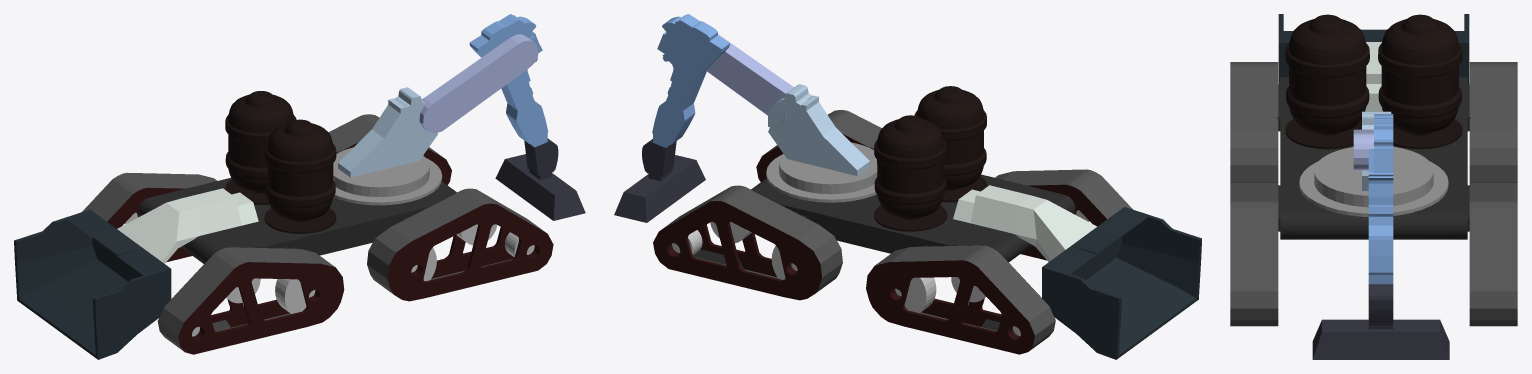
Rendered from Lunar3DPrinterRobot_Oct_02_2019.fbx.
The picture shows the model from 3 angles, left to right: view 1: azimuth 30°, elevation 25°; view 2: azimuth 150°, elevation 25°; view 3: azimuth 270°, elevation 25°; orthographic projection. The views are drawn at different scales.
Parts seen in each view (by area): view 1: Bucket, Tread_04, Tread_02, Body, Bucket_Arm, Tank_02, VacuumArmMid, VacuumArmStart, VacuumArmEnd, VacuumArmRotation, VacuumForearm, Tread_03 (+6 smaller); view 2: Bucket, Tread_03, Tread_01, Body, Bucket_Arm, VacuumForearm, Tank_01, VacuumArmStart, VacuumArmEnd, VacuumArmRotation, Tread_04, VacuumArmMid (+6 smaller); view 3: Body, Tread_02, Tread_01, Tank_02, Tank_01, VacuumArmEnd, VacuumArmRotation, Tread_04, Tread_03, VacuumForearm, Tank_Top_01, Tank_Top_02 (+4 smaller).
Part boxes in pixels (<box>): Bucket: <box>14,209,171,359</box>; Tread_04: <box>157,247,344,354</box>; Tread_02: <box>367,188,553,301</box>; Body: <box>138,150,456,263</box>; Bucket_Arm: <box>117,188,258,263</box>; Tank_02: <box>264,144,336,233</box>; VacuumArmMid: <box>419,34,538,133</box>; VacuumArmStart: <box>338,87,437,177</box>; VacuumArmEnd: <box>495,138,585,220</box>; VacuumArmRotation: <box>333,147,442,205</box>; VacuumForearm: <box>469,14,548,147</box>; Tread_03: <box>82,172,217,262</box>; Bucket: <box>1042,207,1201,359</box>; Tread_03: <box>866,245,1055,354</box>; Tread_01: <box>653,185,842,300</box>; Body: <box>751,146,1075,262</box>; Bucket_Arm: <box>953,185,1096,261</box>; VacuumForearm: <box>652,14,729,147</box>; Tank_01: <box>874,140,947,231</box>; VacuumArmStart: <box>768,84,869,175</box>; VacuumArmEnd: <box>614,139,705,222</box>; VacuumArmRotation: <box>766,142,877,202</box>; Tread_04: <box>995,169,1132,260</box>; VacuumArmMid: <box>706,34,793,115</box>; Body: <box>1277,77,1470,239</box>; Tread_02: <box>1230,182,1278,326</box>; Tread_01: <box>1469,182,1517,326</box>; Tank_02: <box>1285,43,1369,149</box>; Tank_01: <box>1378,43,1462,149</box>; VacuumArmEnd: <box>1312,284,1449,359</box>; VacuumArmRotation: <box>1299,146,1448,216</box>; Tread_04: <box>1230,62,1278,182</box>; Tread_03: <box>1469,62,1517,182</box>; VacuumForearm: <box>1368,114,1393,284</box>; Tank_Top_01: <box>1381,14,1459,64</box>; Tank_Top_02: <box>1288,14,1366,64</box>.
Size of the model in its own units: 307 by 735 by 275.
